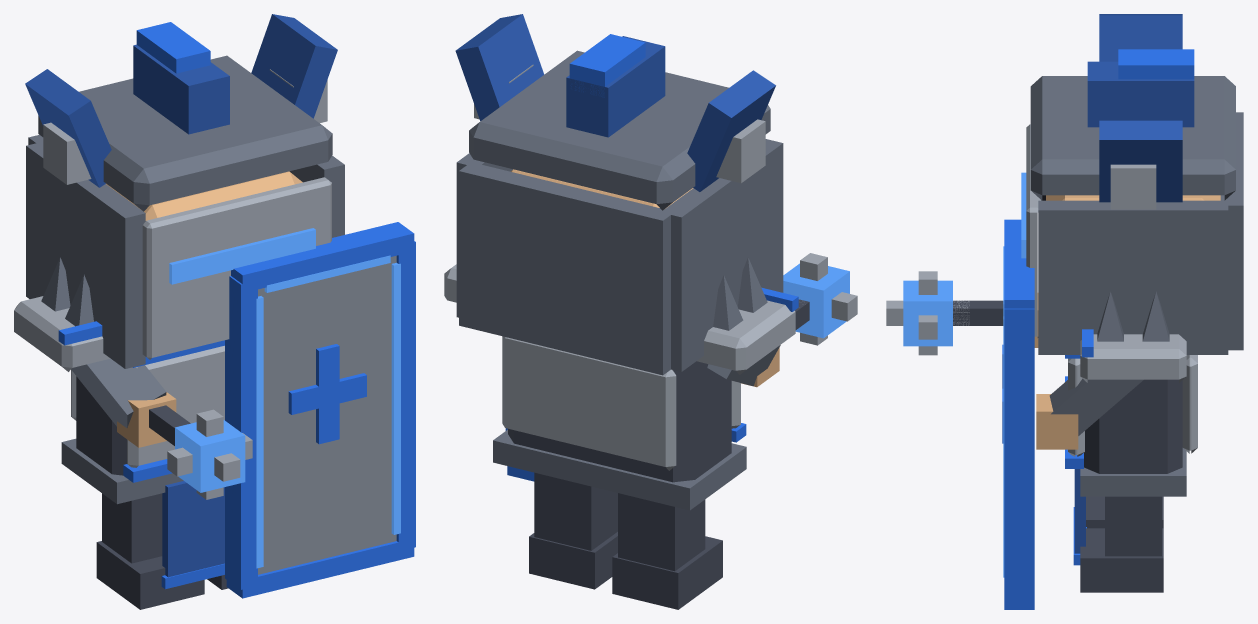
File: shield_knight_super_rare.glb
3 views of the same model, side by side, from view 1: azimuth 30°, elevation 25°; view 2: azimuth 150°, elevation 25°; view 3: azimuth 270°, elevation 25° (orthographic). The views are drawn at different scales.
Visible parts, largest first — view 1: shield_knight_super_rare_mesh; view 2: shield_knight_super_rare_mesh; view 3: shield_knight_super_rare_mesh.
Boxes of the visible parts, box(x1,y1,x2,y2) form: shield_knight_super_rare_mesh: box(14, 14, 415, 609); shield_knight_super_rare_mesh: box(444, 14, 857, 609); shield_knight_super_rare_mesh: box(886, 14, 1243, 609).
Size of the model in its own units: 0.8086 by 1.3 by 0.8399.
2 materials, 2 textured.
